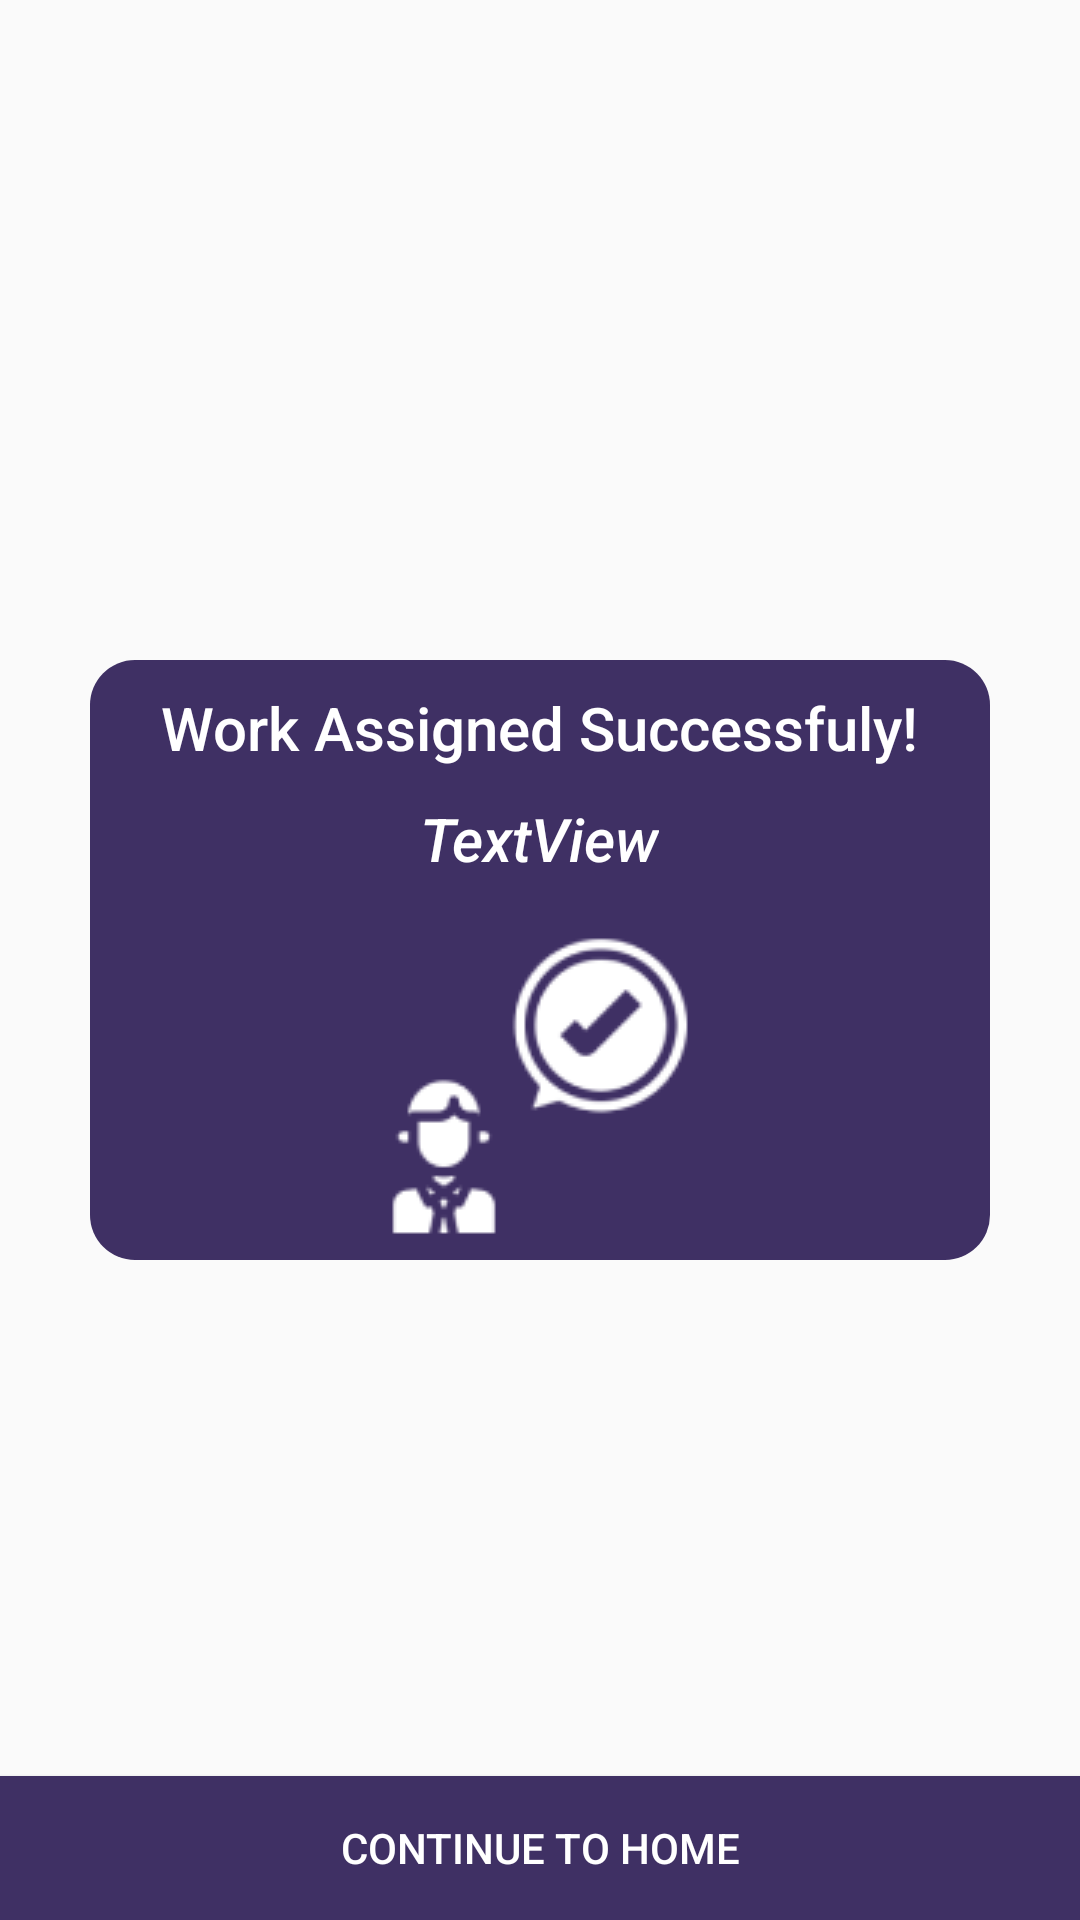

Icons on this 1080 x 1920 Android screen, each with the point to tap as [x,y]:
success: [540,1086]
